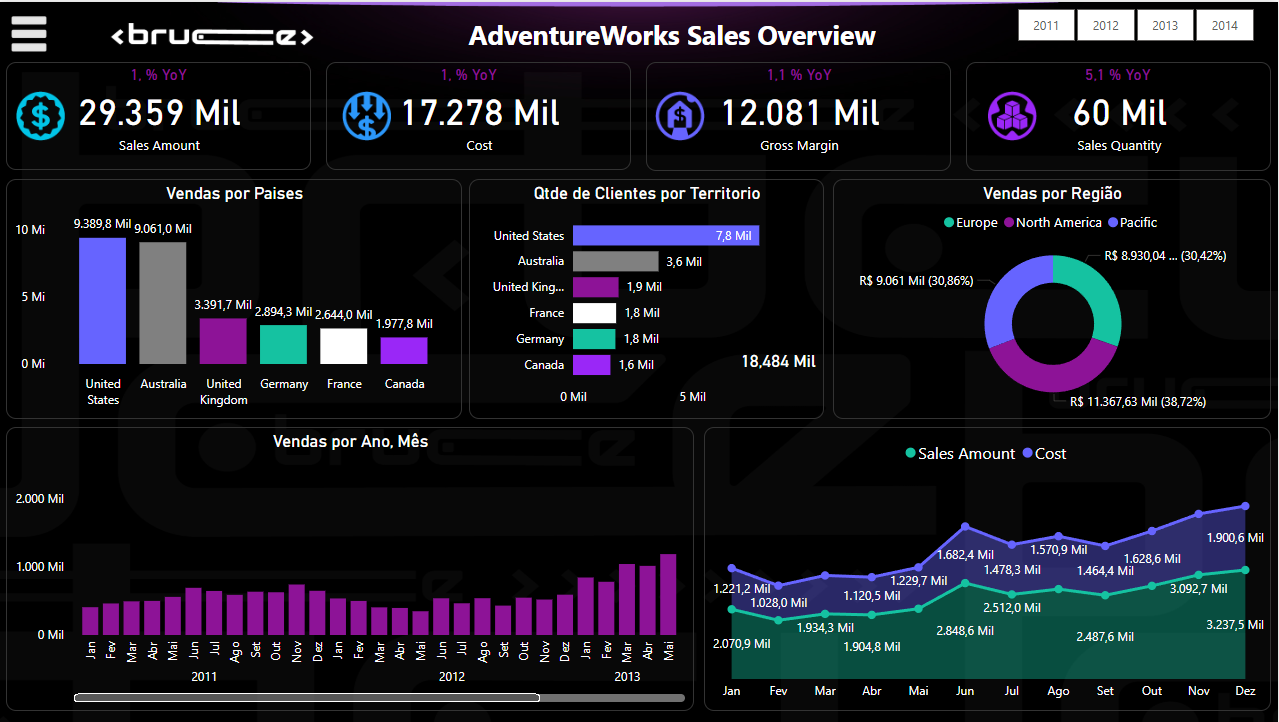

The dashboard page shown, as its layout file describes it:
{"tool":"powerbi","page":{"name":"Sales Overview","canvas":[1280,720],"ordinal":0},"visuals":[{"type":"columnChart","title":"Vendas por Ano, Mês","fields":{"Category":["dim_calendario.Ano","dim_calendario.Mes abev"],"Y":["#Measures.Sales Amount"]},"box":[8,425,688,284],"z":0},{"type":"card","fields":{"Values":["#Measures.Sales Amount"]},"box":[8.2,60,305,108],"z":1000},{"type":"card","fields":{"Values":["#Measures.Cost"]},"box":[328.1,60.2,305,108],"z":2000},{"type":"card","fields":{"Values":["#Measures.Gross Margin"]},"box":[648.1,60.2,305,108.6],"z":3000},{"type":"card","fields":{"Values":["#Measures.Sales Quantity"]},"box":[968,60.2,305,108.6],"z":4000},{"type":"columnChart","title":"Vendas por Paises","fields":{"Category":["DimSalesTerritory.SalesTerritoryCountry"],"Y":["#Measures.Sales Amount"]},"box":[8,177,456,240],"z":5000},{"type":"image","box":[8.2,83.9,68.4,60.2],"z":6000},{"type":"image","box":[334.8,83.9,68.4,60.2],"z":7000},{"type":"image","box":[647.8,83.9,68.4,60.2],"z":8000},{"type":"image","box":[980.8,83.9,68.4,60.2],"z":9000},{"type":"textbox","box":[412,9,524,55],"z":10000},{"type":"stackedAreaChart","fields":{"Category":["dim_calendario.Mes abev"],"Y":["#Measures.Sales Amount","#Measures.Cost"]},"box":[706,425,567,284],"z":11000},{"type":"slicer","fields":{"Values":["dim_calendario.Ano"]},"box":[994.4,0,285.6,45.6],"z":12000},{"type":"card","fields":{"Values":["#Measures.Sales Delta % txt"]},"box":[102,60,117,27],"z":13000},{"type":"card","fields":{"Values":["#Measures.Cost Delta % txt"]},"box":[412,60,117,27],"z":14000},{"type":"card","fields":{"Values":["#Measures.Gross Margin Delta % txt"]},"box":[743,60,116,27],"z":15000},{"type":"card","fields":{"Values":["#Measures.Sales Quantity Delta % txt"]},"box":[1061,60,117,27],"z":16000},{"type":"donutChart","title":"Vendas por Região","fields":{"Category":["DimSalesTerritory.SalesTerritoryGroup"],"Y":["Sum(FactInternetSales.SalesAmount)"]},"box":[835,177,438,240],"z":17000},{"type":"clusteredBarChart","title":"Qtde de Clientes por Territorio","fields":{"Category":["DimSalesTerritory.SalesTerritoryCountry"],"Y":["Count(FactInternetSales.CustomerKey)"]},"box":[471,177,355,240],"z":18000},{"type":"image","box":[8.2,9.1,45.6,45.6],"z":19000},{"type":"actionButton","box":[0,0,64,55],"z":20000},{"type":"card","fields":{"Values":["Count(FactInternetSales.CustomerKey)"]},"box":[734,334,92,51],"z":22000}]}

Visuals, with their boxes in screenshot pixels (x1, y1, x2, y2), scaled from the page's 1280x720 canvas onto the 1279x722 screenshot:
"Vendas por Ano, Mês" columnChart: bbox=(8, 426, 695, 711)
card - #Measures.Sales Amount: bbox=(8, 60, 313, 168)
card - #Measures.Cost: bbox=(328, 60, 633, 169)
card - #Measures.Gross Margin: bbox=(648, 60, 952, 169)
card - #Measures.Sales Quantity: bbox=(967, 60, 1272, 169)
"Vendas por Paises" columnChart: bbox=(8, 177, 464, 418)
image: bbox=(8, 84, 77, 145)
image: bbox=(335, 84, 403, 145)
image: bbox=(647, 84, 716, 145)
image: bbox=(980, 84, 1048, 145)
textbox: bbox=(412, 9, 935, 64)
stackedAreaChart - dim_calendario.Mes abev x #Measures.Sales Amount: bbox=(705, 426, 1272, 711)
slicer - dim_calendario.Ano: bbox=(994, 0, 1278, 46)
card - #Measures.Sales Delta % txt: bbox=(102, 60, 219, 87)
card - #Measures.Cost Delta % txt: bbox=(412, 60, 529, 87)
card - #Measures.Gross Margin Delta % txt: bbox=(742, 60, 858, 87)
card - #Measures.Sales Quantity Delta % txt: bbox=(1060, 60, 1177, 87)
"Vendas por Região" donutChart: bbox=(834, 177, 1272, 418)
"Qtde de Clientes por Territorio" clusteredBarChart: bbox=(471, 177, 825, 418)
image: bbox=(8, 9, 54, 55)
actionButton: bbox=(0, 0, 64, 55)
card - Count(FactInternetSales.CustomerKey): bbox=(733, 335, 825, 386)
